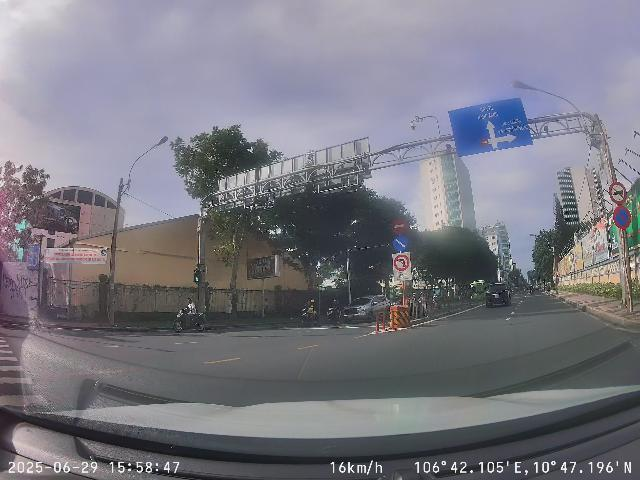102-cam-di-nguoc-chieu: (391, 218, 407, 234)
123a-cam-re-trai: (394, 254, 410, 271)
131a-cam-do-xe: (613, 205, 631, 229)
302a-huong-phai-di-vong-chuong-ngai-vat-1: (393, 235, 408, 251)
